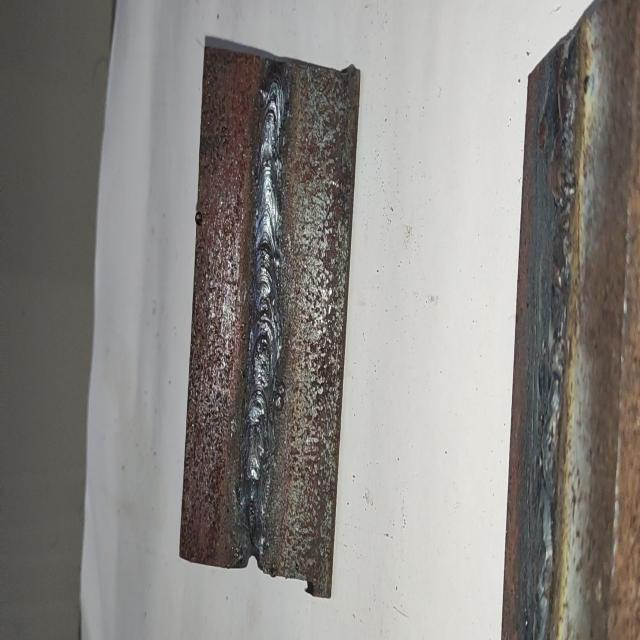Good Weld: (236, 62, 286, 568)
